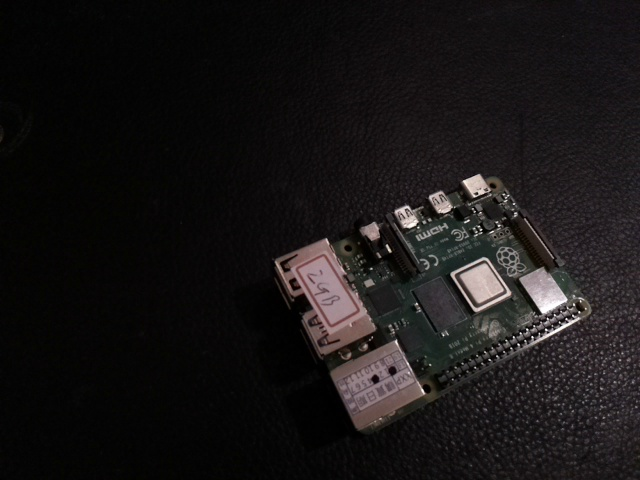pi4: (268, 131, 595, 458)
